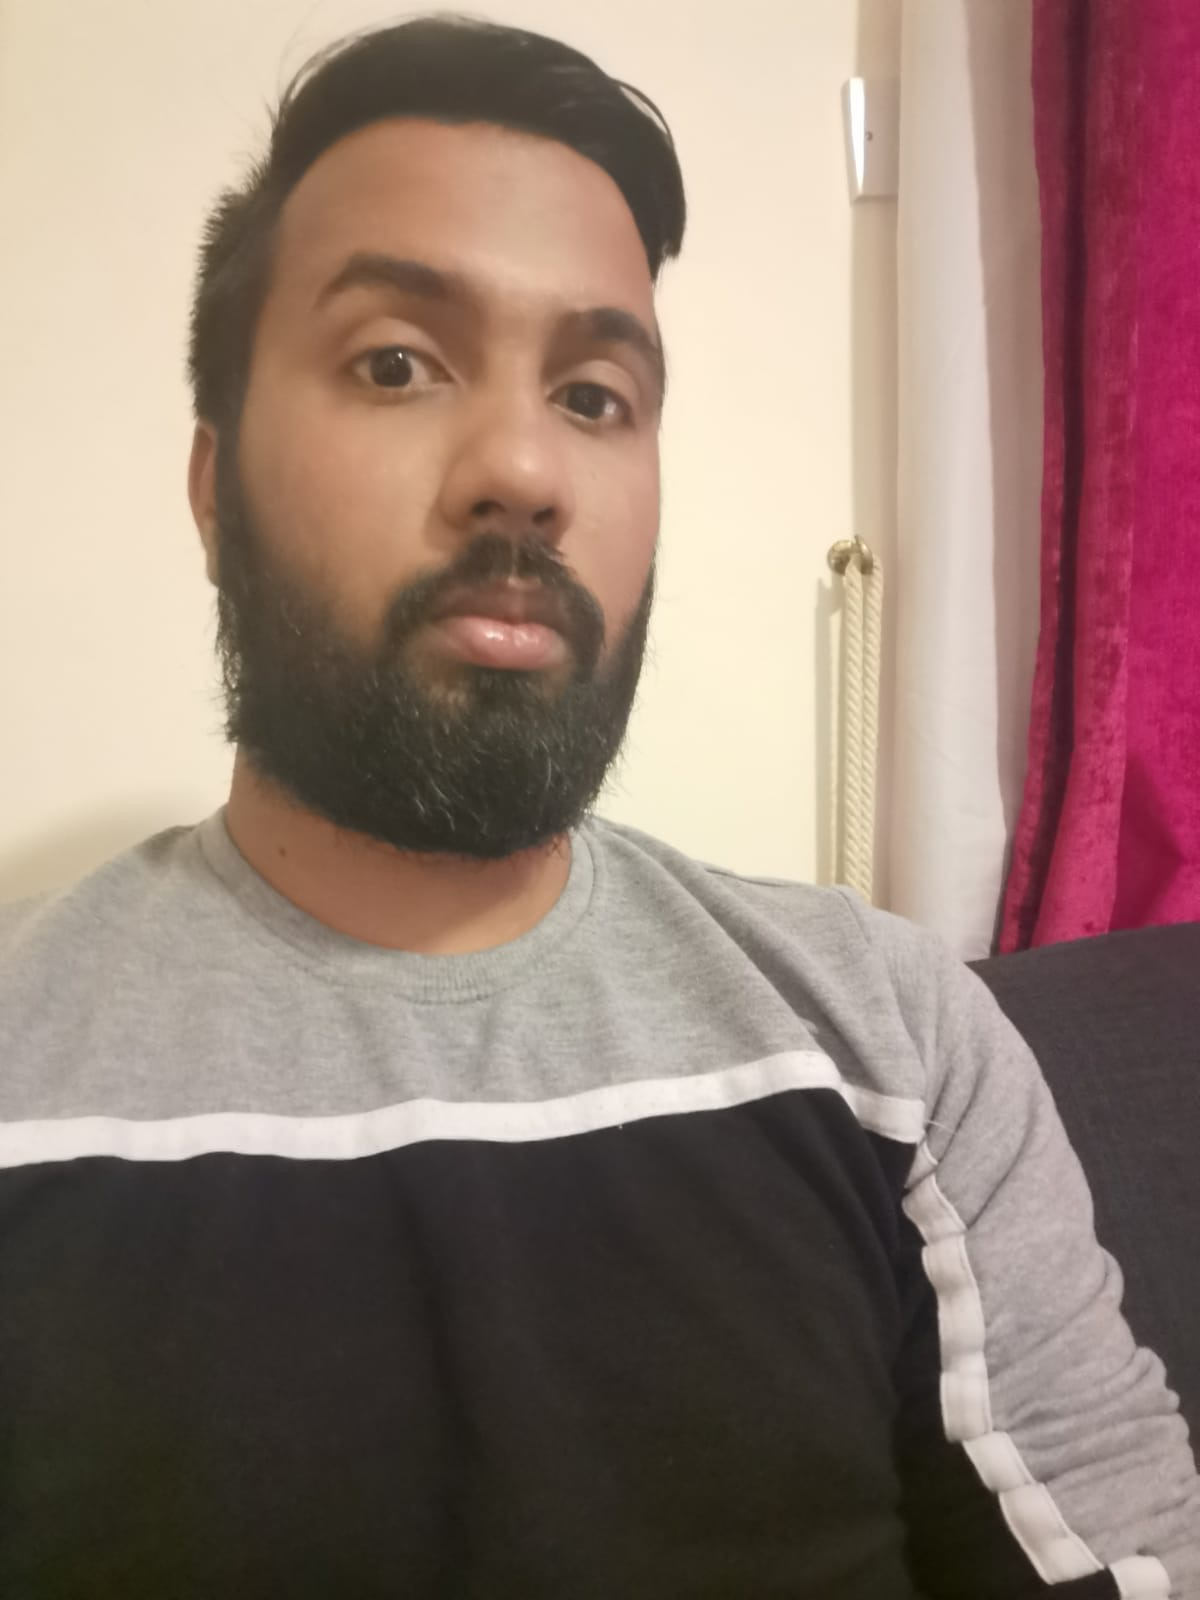Not Sleeping: (321, 294, 666, 450)
